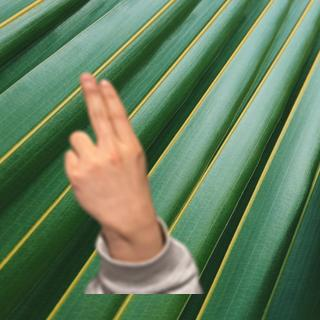DHAVE: (52, 65, 159, 232)
